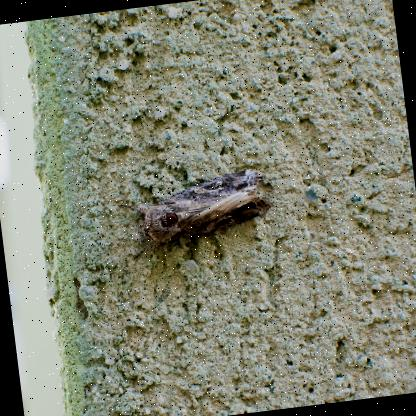Fall Armyworm Moth: (113, 164, 278, 262)
